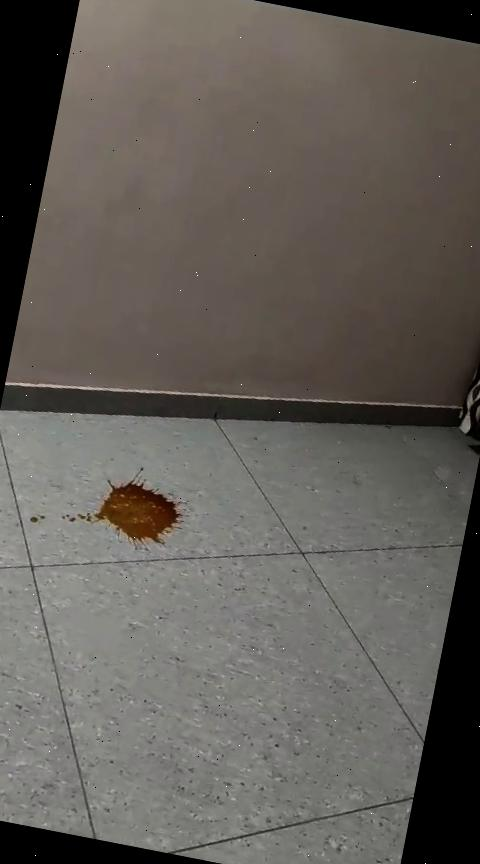dirty_floor: (28, 461, 192, 560)
